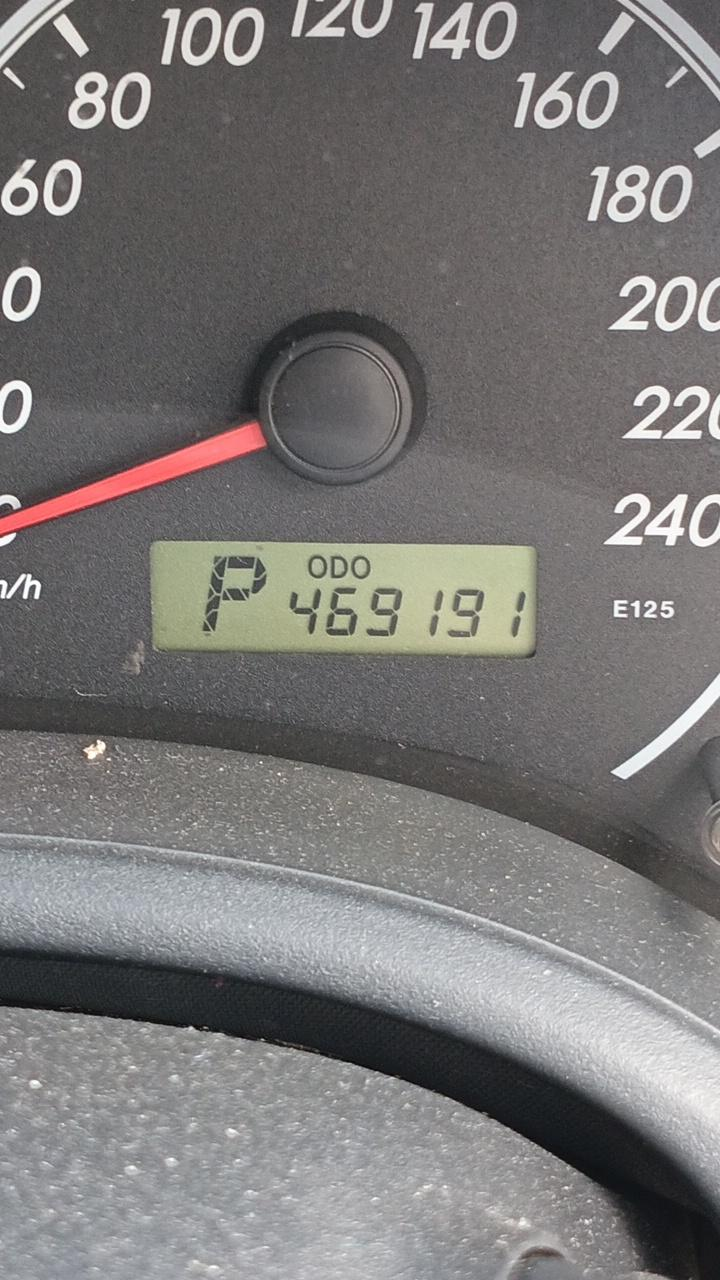1: (427, 589, 445, 638), (510, 590, 527, 639)
4: (289, 588, 322, 636)
6: (325, 587, 359, 637)
9: (365, 587, 403, 637), (447, 589, 485, 638)
X: (200, 554, 268, 634), (307, 555, 328, 580), (351, 555, 371, 580), (330, 555, 348, 579)
odometer: (149, 539, 538, 661)
